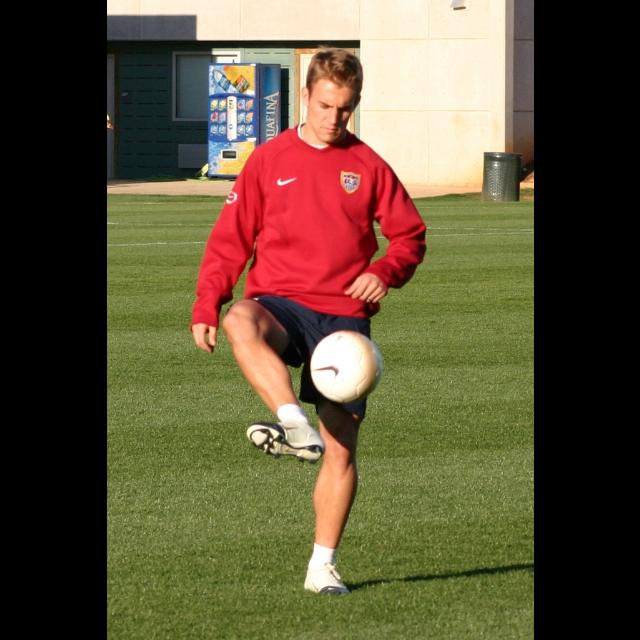Football: (306, 328, 382, 404)
